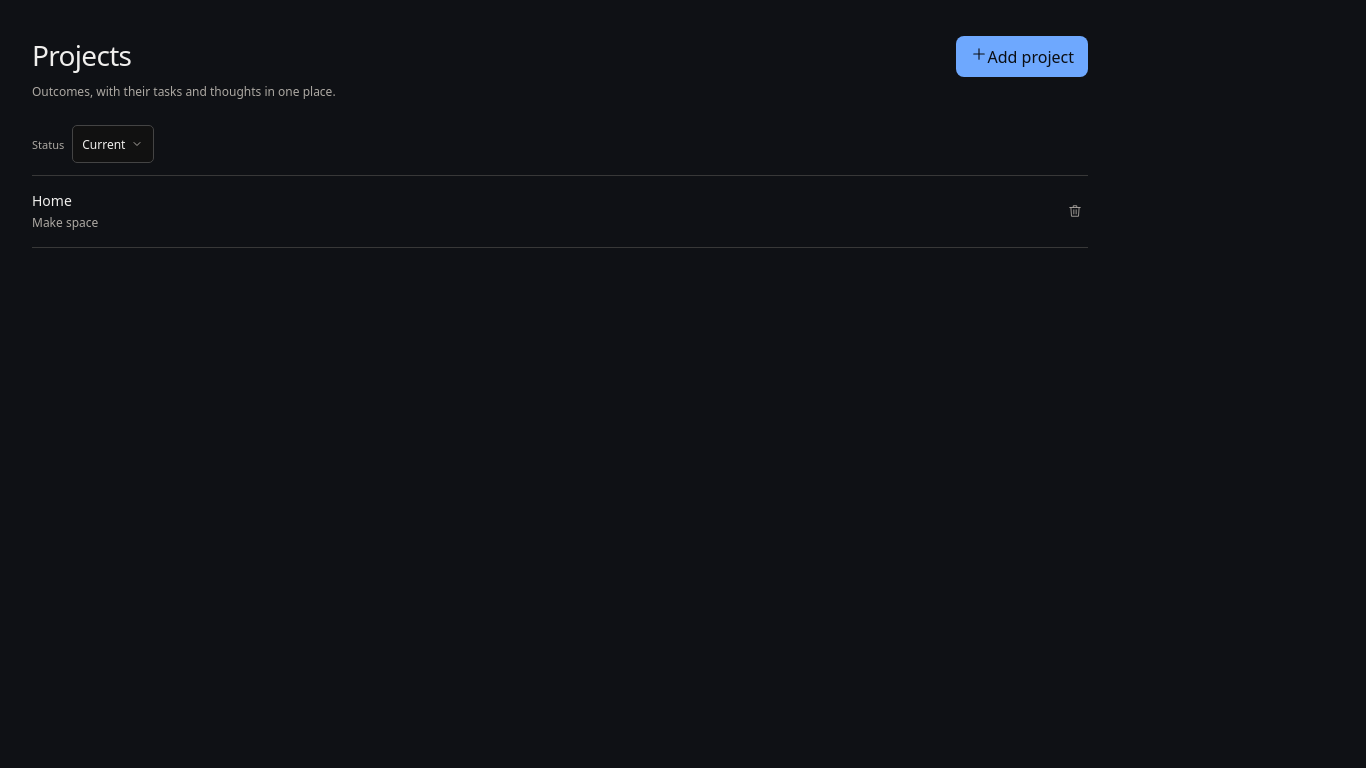
Collection pages › keeps Undo explicitly attached to deletion after a later record save
The width and height of the screenshot is (1366, 768).
Click the button named "Delete Home": click(1075, 212) 1062,198 -> 1088,224
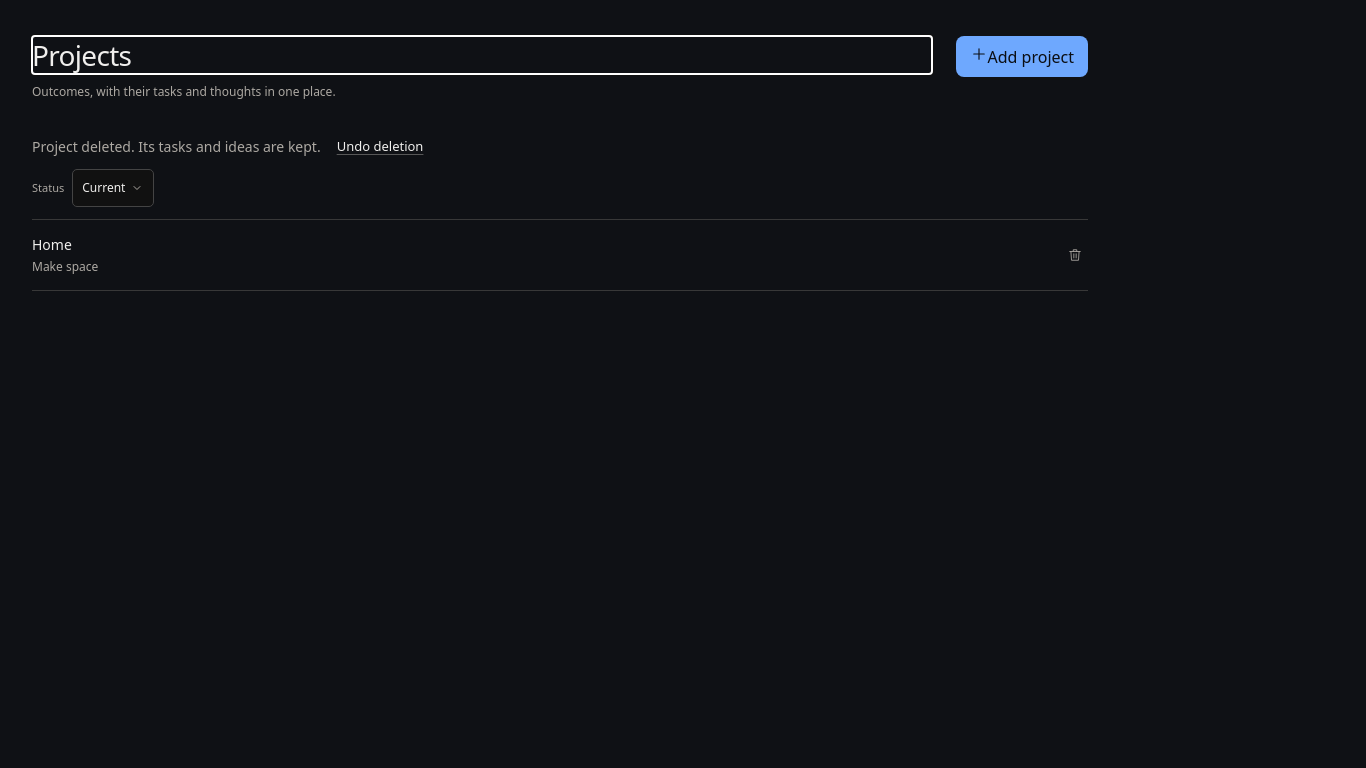
Check: the button "Undo deletion" is shown, box 337,137 -> 424,157
Click the button "Home Make space": click(52, 244) 32,230 -> 1050,280
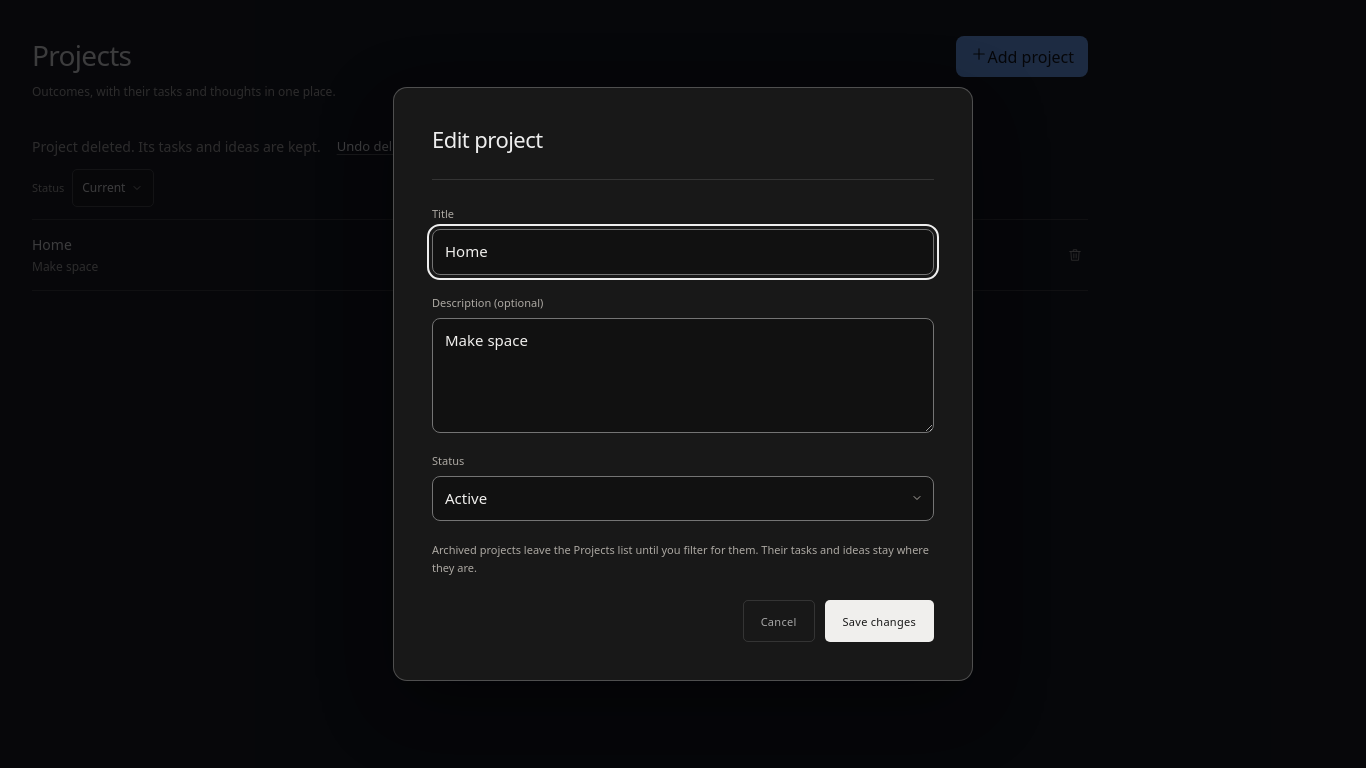
Click the button "Save changes": click(879, 621) 824,600 -> 934,642
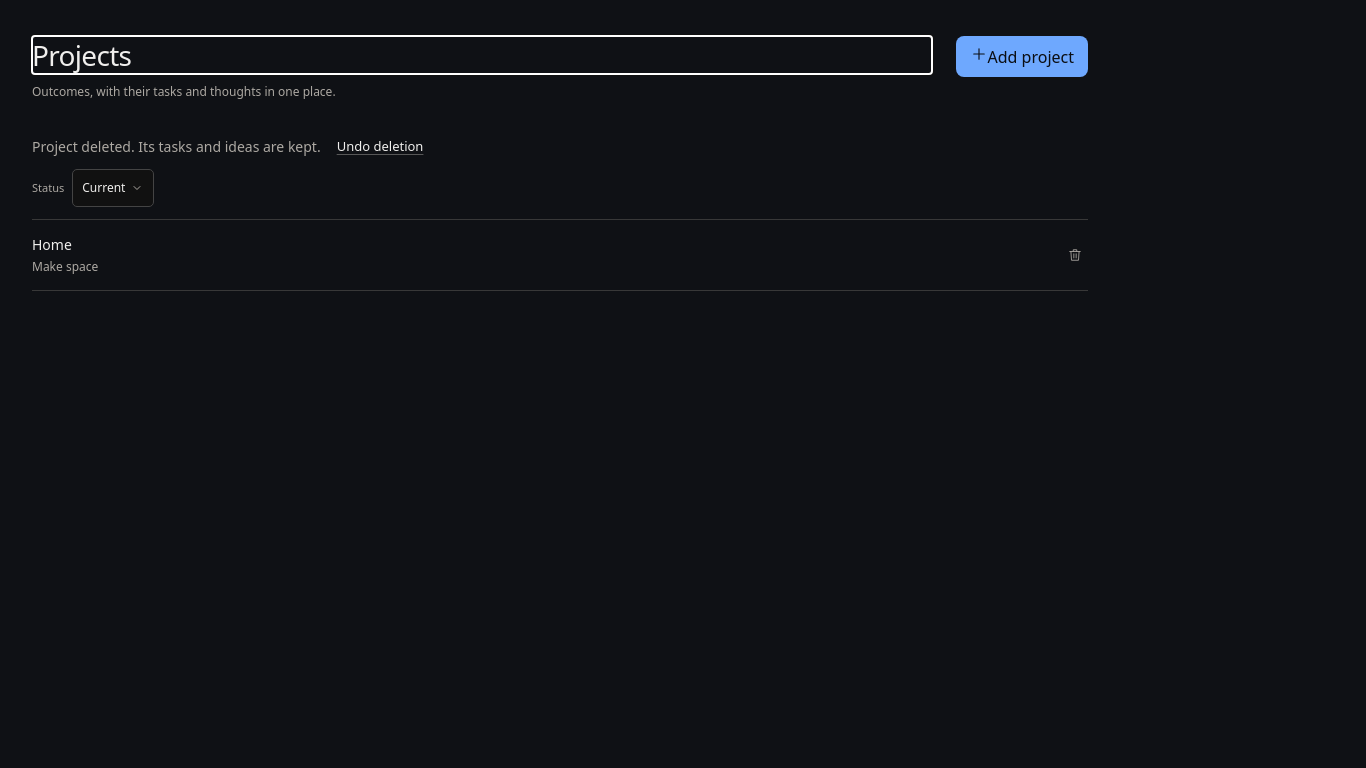
Check: the button "Undo deletion" is shown, box 337,137 -> 424,157
Check: the dialog is gone
